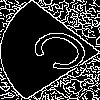C: (24, 24, 100, 83)
